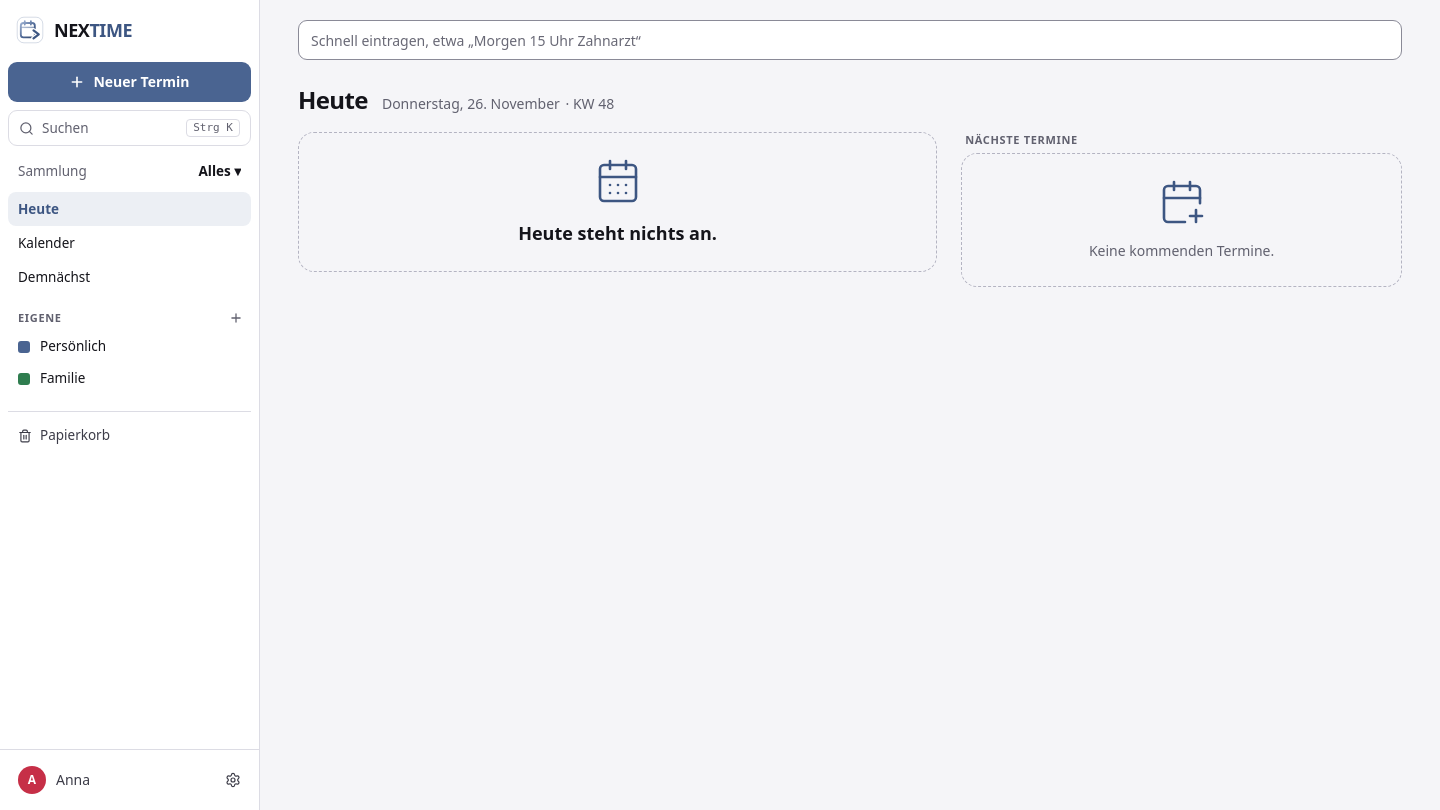
it: TIME-5 the side panel › TIME-5 AC-3 an event in another zone shows its own time and yours
Later steps or results of the test are not shown.
Click the button with test id "new-event".
click(130, 82)  # box [8,62,251,102]
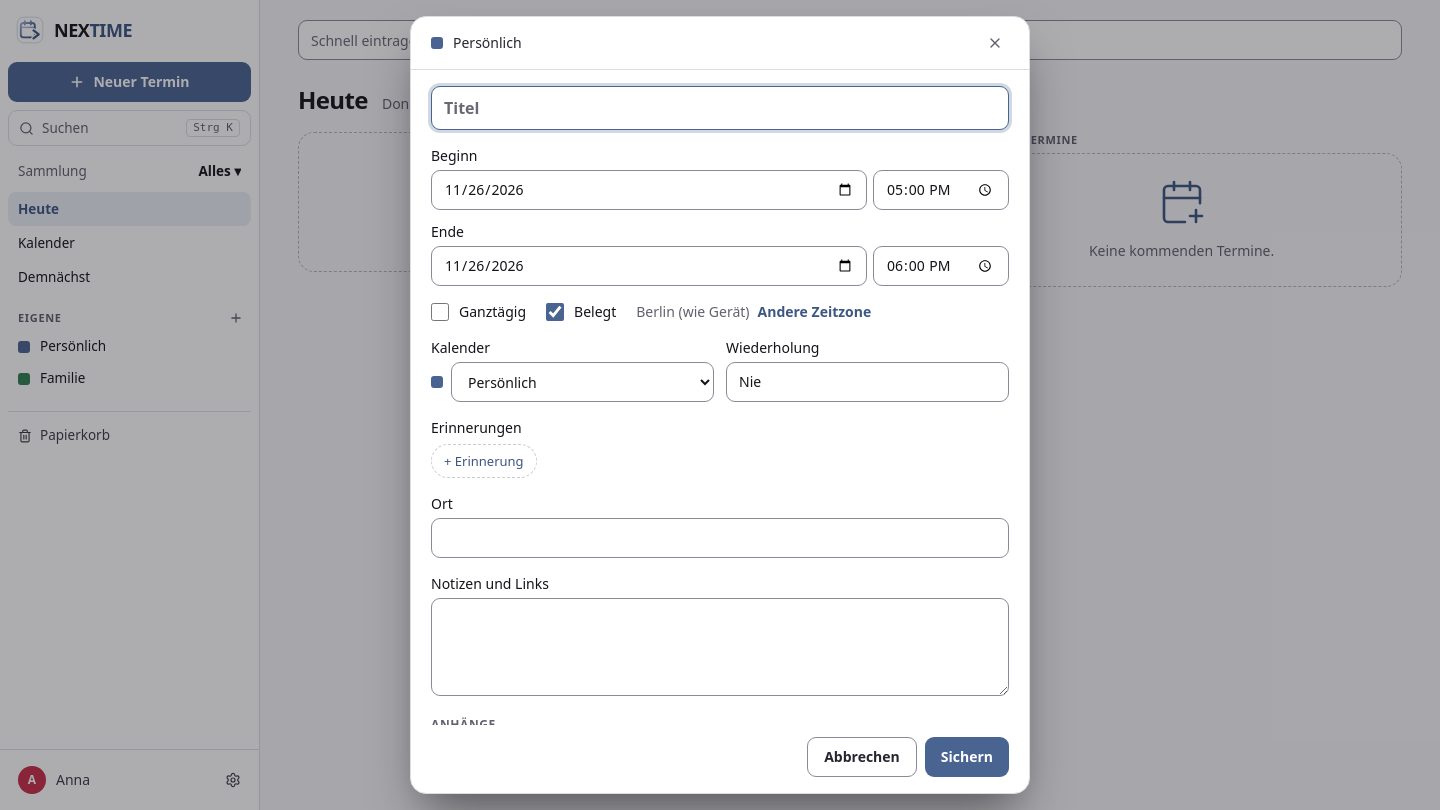
Now the text "Berlin (wie Gerät)" is shown, box [636,302,750,322]
